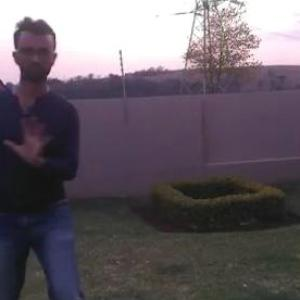follow_hand: (2, 112, 57, 161)
